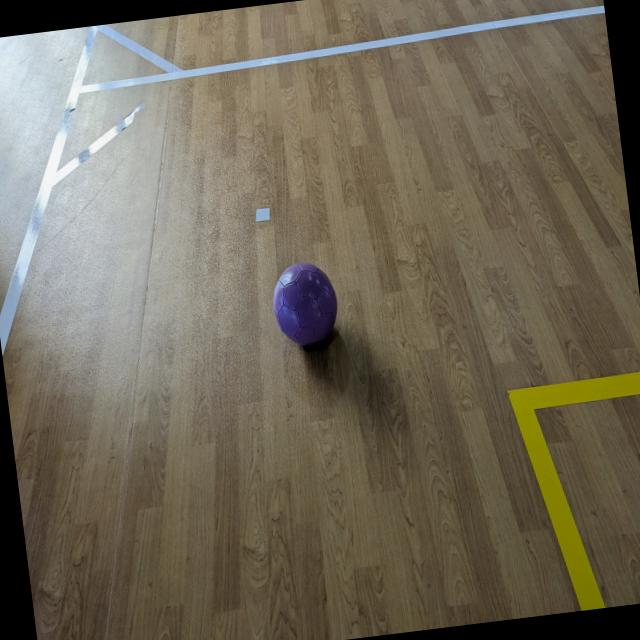purple_ball: (268, 259, 342, 352)
